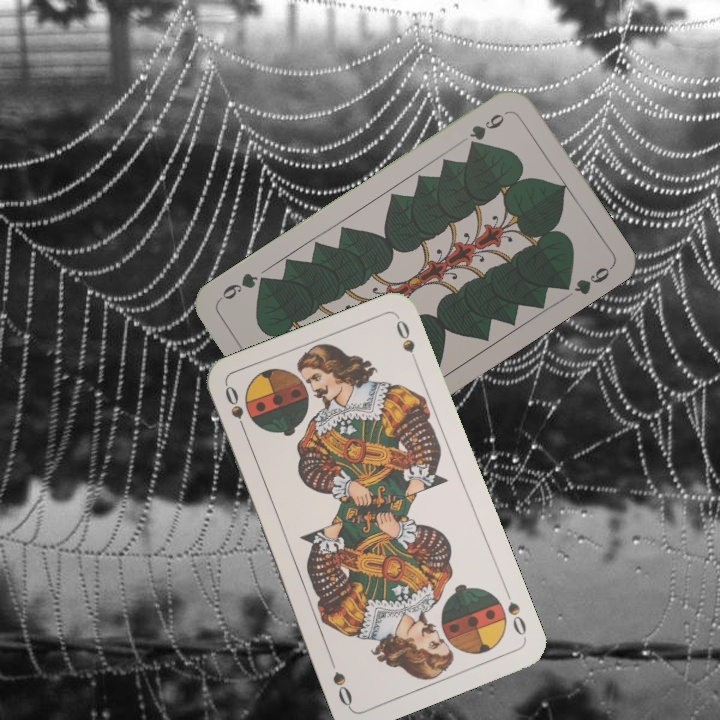G9: (465, 107, 511, 150)
SO: (221, 381, 250, 439), (500, 584, 529, 641)
